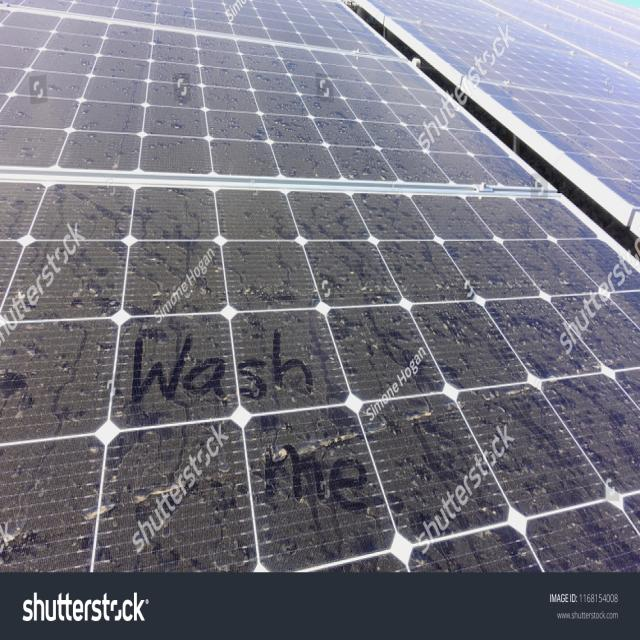dust-solar-panel: (0, 0, 640, 572)
